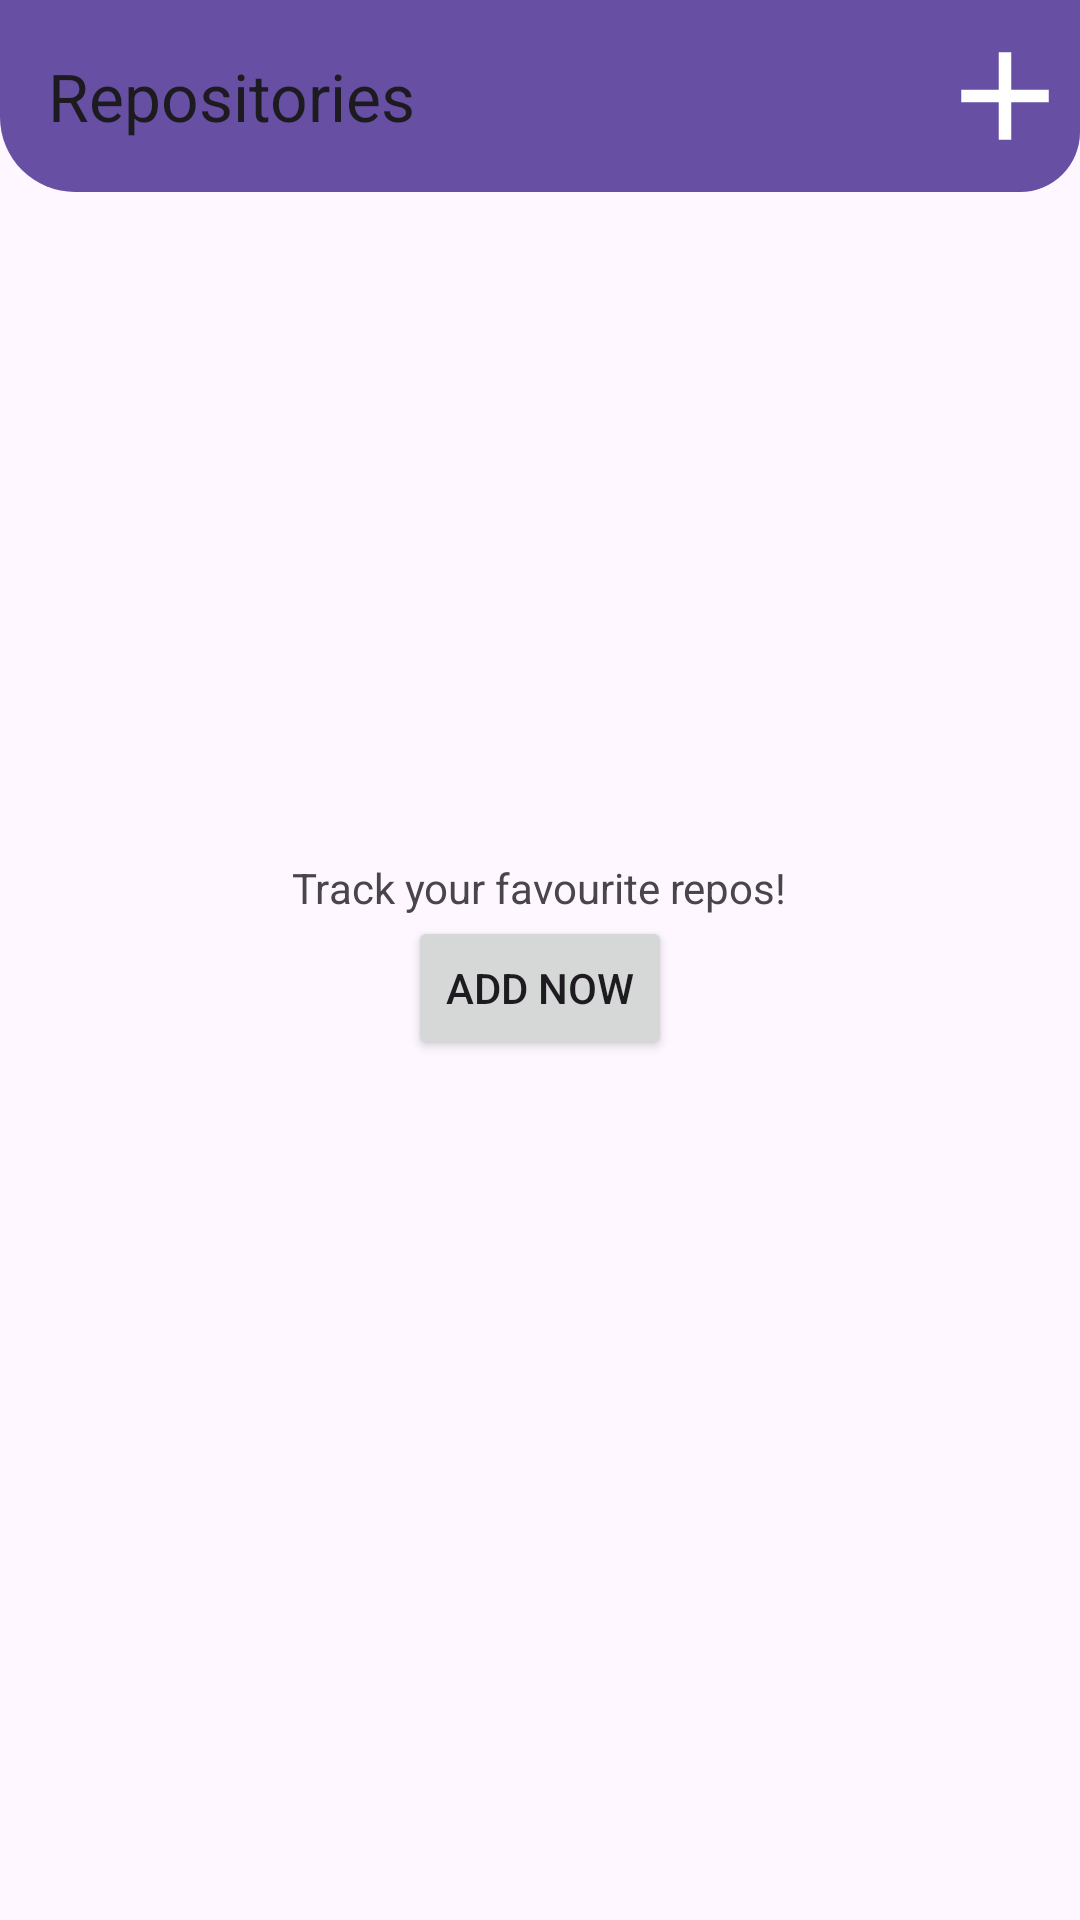

Icons on this 1080×1920 Android screen, each with its box as (x1, y1, x2, y2):
ADD REPO: (961, 52, 1049, 140)
